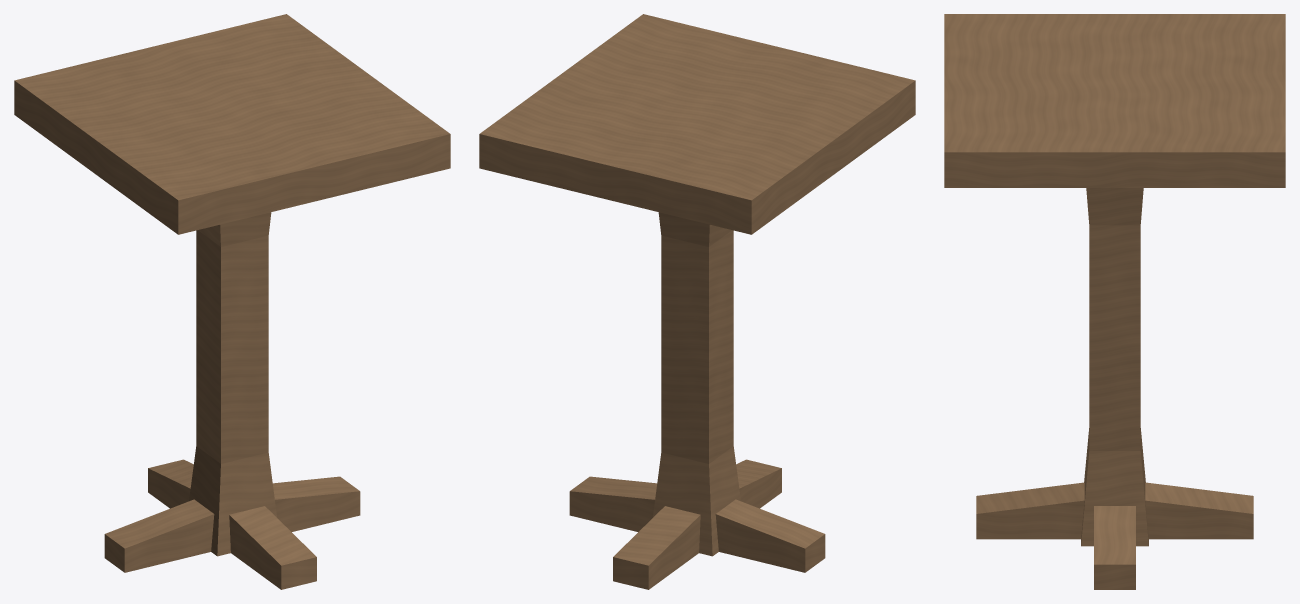
The model's file is 07_table_square_tall.glb.
The picture shows the model from 3 angles, left to right: view 1: azimuth 30°, elevation 25°; view 2: azimuth 150°, elevation 25°; view 3: azimuth 270°, elevation 25°; orthographic projection. The views are drawn at different scales.
Parts seen in each view (by area): view 1: Intact, Pedestal, Top, Pedestal_fragment_8, Foot_01_fragment_6, Foot_04_fragment_8, Pedestal_fragment_2, Foot_04, Foot_05_fragment_8; view 2: Intact, Pedestal, Top, Pedestal_fragment_8, Foot_04_fragment_8, Foot_01_fragment_6, Pedestal_fragment_2, Foot_05_fragment_8, Foot_06, Pedestal_fragment_4; view 3: Intact, Pedestal, Pedestal_fragment_4, Pedestal_fragment_8, Top, Pedestal_fragment_2, Foot_01_fragment_6, Foot_05_fragment_8, Foot_04_fragment_8, Foot_01.
Boxes of the visible parts, box(x1,y1,x2,y2) form: Intact: box(14, 14, 450, 589); Pedestal: box(196, 230, 268, 463); Top: box(14, 81, 450, 234); Pedestal_fragment_8: box(189, 446, 276, 556); Foot_01_fragment_6: box(229, 506, 316, 589); Foot_04_fragment_8: box(105, 459, 209, 540); Pedestal_fragment_2: box(198, 212, 271, 246); Foot_04: box(115, 518, 213, 572); Foot_05_fragment_8: box(272, 476, 356, 512); Intact: box(479, 14, 915, 589); Pedestal: box(661, 234, 729, 463); Top: box(479, 81, 915, 234); Pedestal_fragment_8: box(653, 446, 740, 556); Foot_04_fragment_8: box(613, 499, 824, 589); Foot_01_fragment_6: box(736, 459, 781, 508); Pedestal_fragment_2: box(658, 212, 731, 246); Foot_05_fragment_8: box(571, 476, 657, 531); Foot_06: box(717, 516, 814, 572); Pedestal_fragment_4: box(727, 230, 733, 342); Intact: box(944, 14, 1285, 589); Pedestal: box(1089, 225, 1140, 450); Pedestal_fragment_4: box(1089, 225, 1140, 339); Pedestal_fragment_8: box(1081, 428, 1148, 546); Top: box(944, 152, 1285, 187); Pedestal_fragment_2: box(1086, 188, 1143, 225); Foot_01_fragment_6: box(976, 482, 1084, 518); Foot_05_fragment_8: box(1094, 506, 1135, 563); Foot_04_fragment_8: box(1145, 482, 1253, 513); Foot_01: box(976, 502, 1083, 539).
Bounding box in the file's own units: 0.7193 × 1.08 × 0.75.
2 materials, 2 textured.
